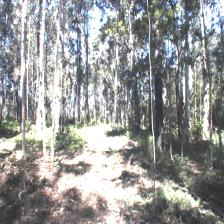trunktrack_idkeyframe: (155, 91, 164, 142), (22, 91, 26, 157)
